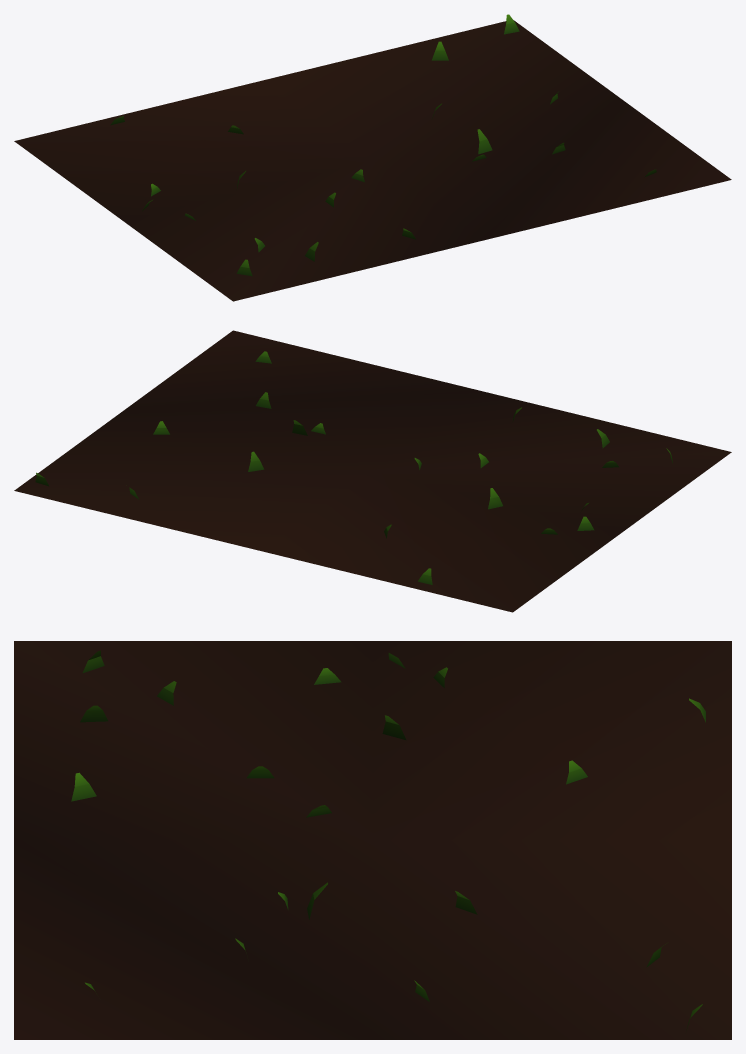
The model's file is fm_turf_wet_lod1.glb.
The picture shows the model from 3 angles, top to bottom: view 1: azimuth 30°, elevation 25°; view 2: azimuth 150°, elevation 25°; view 3: azimuth 270°, elevation 25°; orthographic projection. The views are drawn at different scales.
Parts seen in each view (by area): view 1: fm_turf_wet_lod1; view 2: fm_turf_wet_lod1; view 3: fm_turf_wet_lod1.
Boxes of the visible parts, bbox=[...] form: fm_turf_wet_lod1: bbox=[14, 14, 731, 301]; fm_turf_wet_lod1: bbox=[14, 330, 731, 612]; fm_turf_wet_lod1: bbox=[14, 641, 731, 1039].
Size of the model in its own units: 2.3 by 0.0828 by 1.75.
